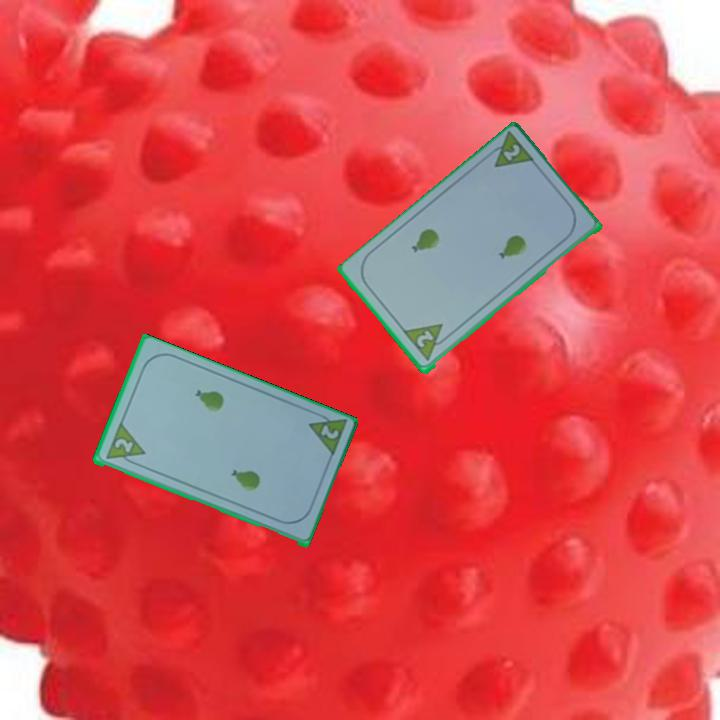2p: (304, 408, 349, 461), (413, 327, 437, 351), (499, 141, 523, 164), (111, 435, 135, 456)
